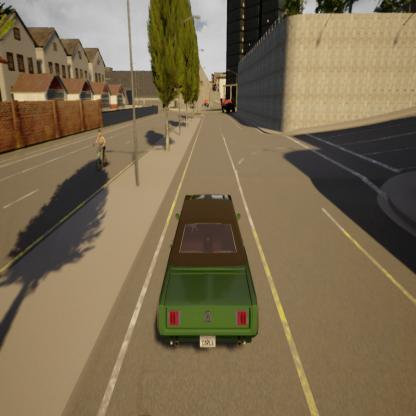Cars: (147, 186, 273, 362), (221, 94, 236, 112)
